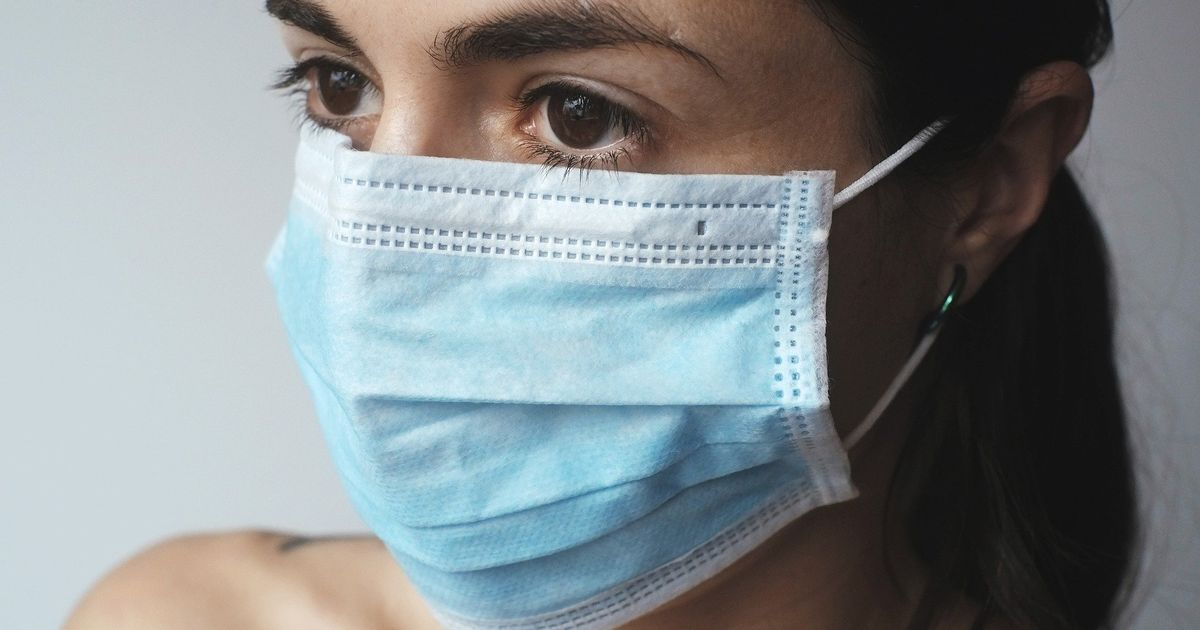with_mask: (263, 7, 1045, 630)
